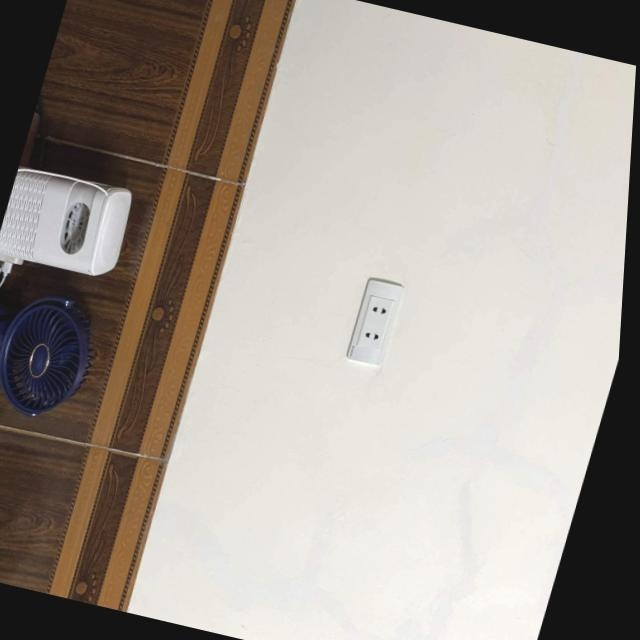outlet: (343, 276, 405, 368)
